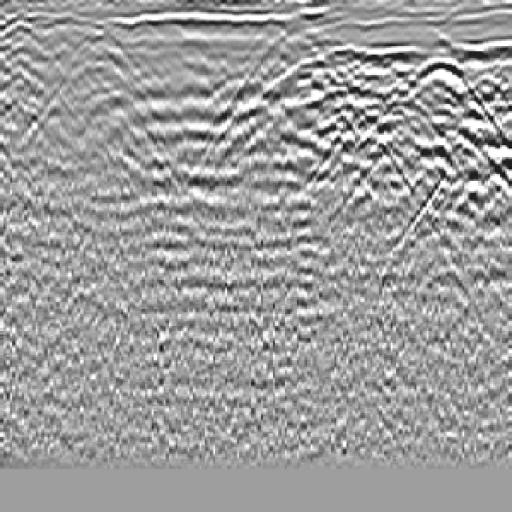non-metallic: (355, 37, 512, 261)
